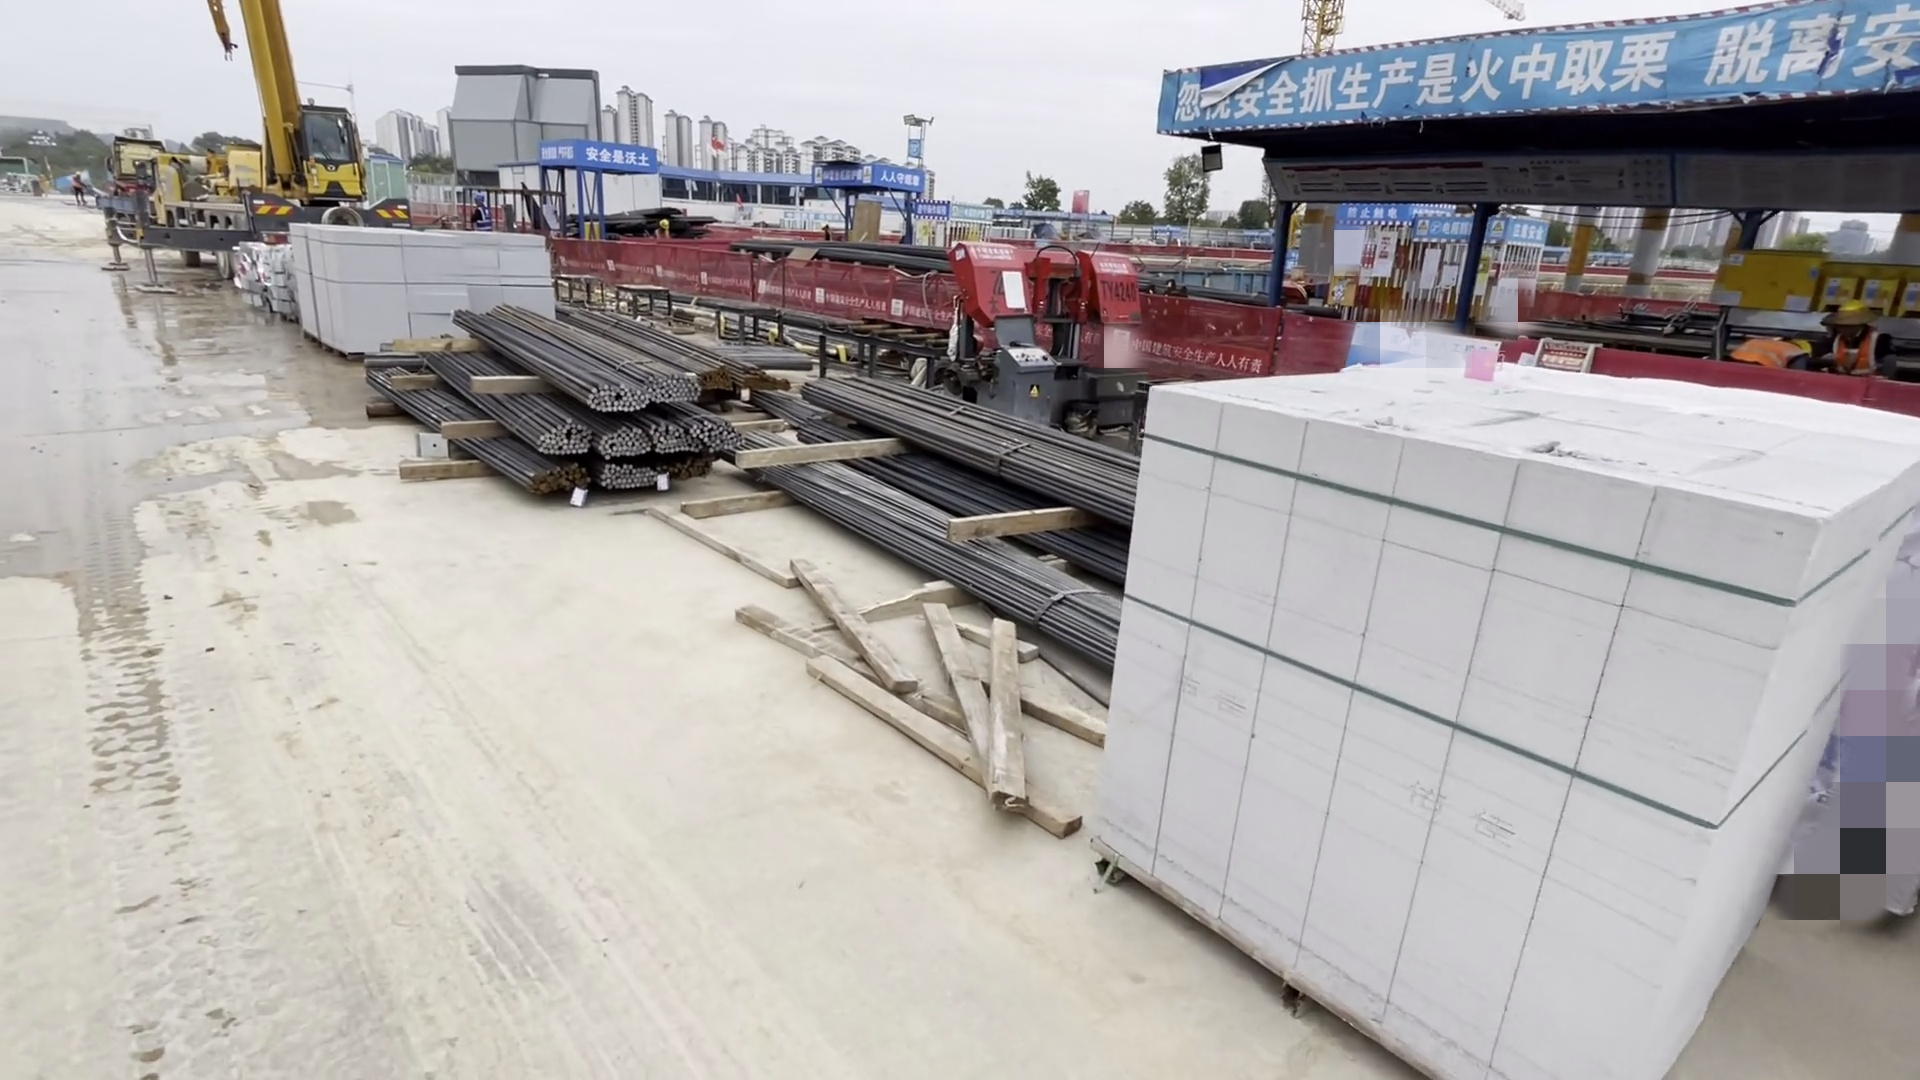brick: (1080, 325, 1901, 1080)
fence: (556, 231, 973, 337)
helmet: (1837, 303, 1890, 335), (473, 189, 487, 203), (659, 220, 674, 231)
person: (1727, 312, 1831, 401), (1824, 303, 1888, 372), (470, 190, 498, 235), (69, 168, 87, 208), (657, 219, 676, 243)
rebar: (807, 365, 1137, 684), (397, 316, 762, 516)
slogan: (1152, 9, 1920, 131), (803, 161, 946, 197), (535, 136, 661, 175), (939, 189, 1012, 223)
vest: (1724, 337, 1803, 382), (1833, 335, 1878, 372)
